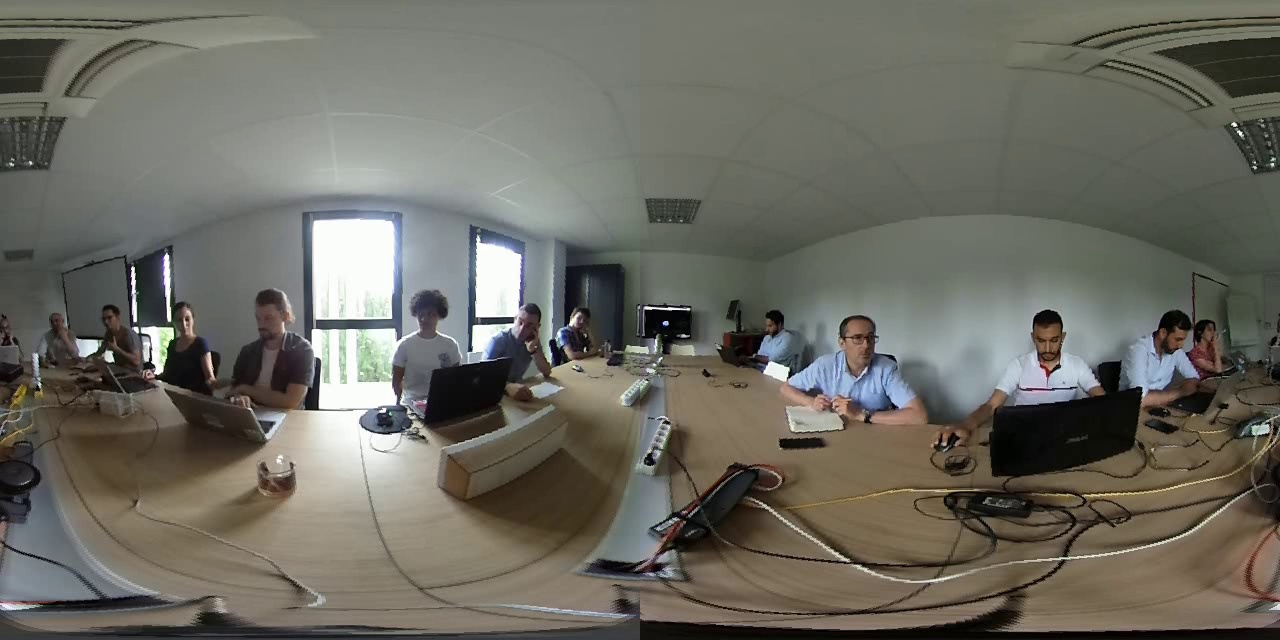person: (797, 291, 901, 410), (996, 300, 1093, 407), (232, 277, 315, 400), (385, 279, 464, 372), (1112, 303, 1193, 393), (150, 293, 223, 390), (482, 289, 545, 375), (84, 292, 145, 369), (549, 290, 605, 363), (749, 296, 799, 368), (1192, 302, 1233, 373), (32, 304, 79, 360), (1, 308, 22, 348)
